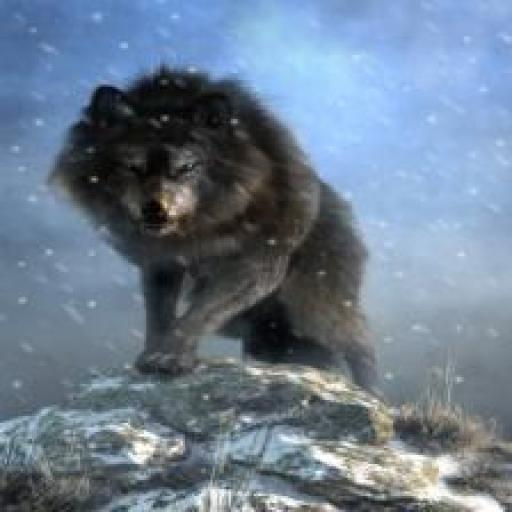wolf: (46, 41, 369, 408)
